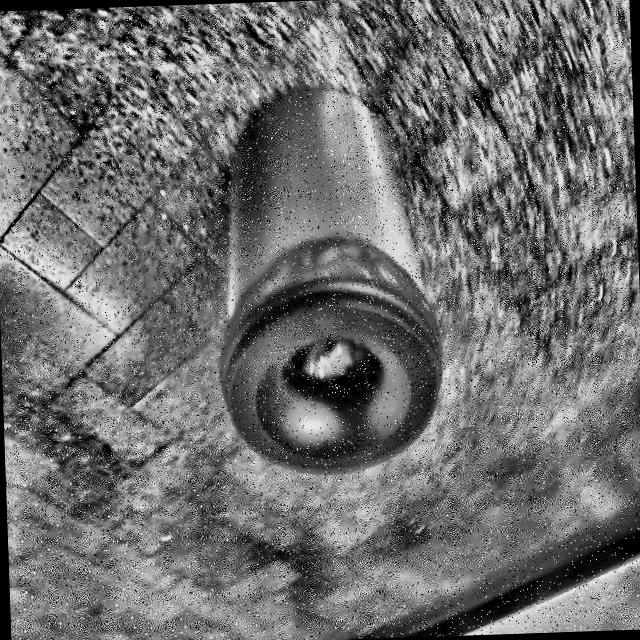Dustbin: (206, 76, 450, 496)
